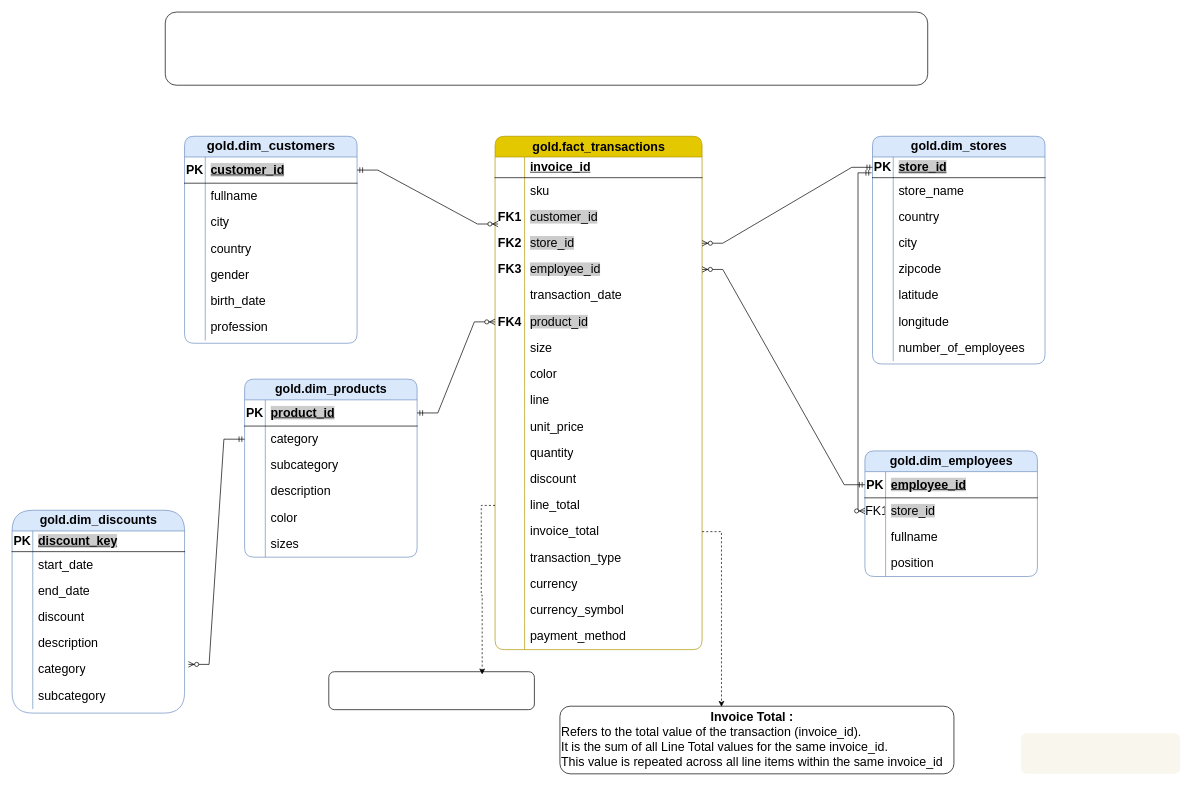
This 1192x786 diagram has some shape labels left out. The centre of each missing label's shape, as x and y in pixels:
Amount Total Calculation: unt_price x quantity x (1 - discount): (x=431, y=690)
Designed By: ABUBAKAR ABDULLAHI: (x=1100, y=753)
Global Fashion Retails Data Model (Star Schema): (x=546, y=48)
